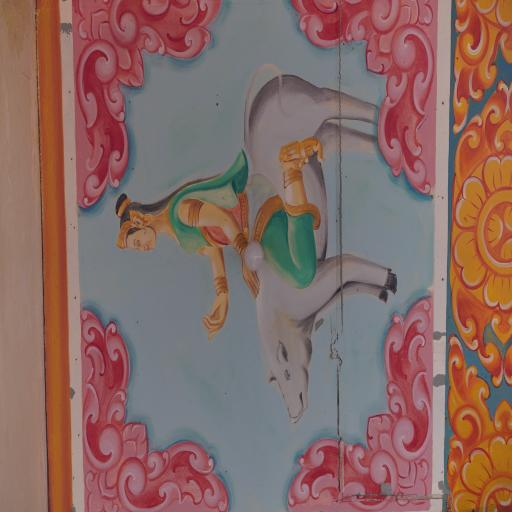hoa: (448, 153, 512, 308), (453, 431, 512, 512), (472, 0, 512, 30)
la: (283, 293, 436, 512), (69, 0, 225, 205), (82, 307, 231, 512), (290, 0, 437, 197), (443, 332, 512, 468), (453, 0, 505, 129), (449, 284, 512, 388), (453, 77, 512, 169)
than: (100, 130, 374, 340)
